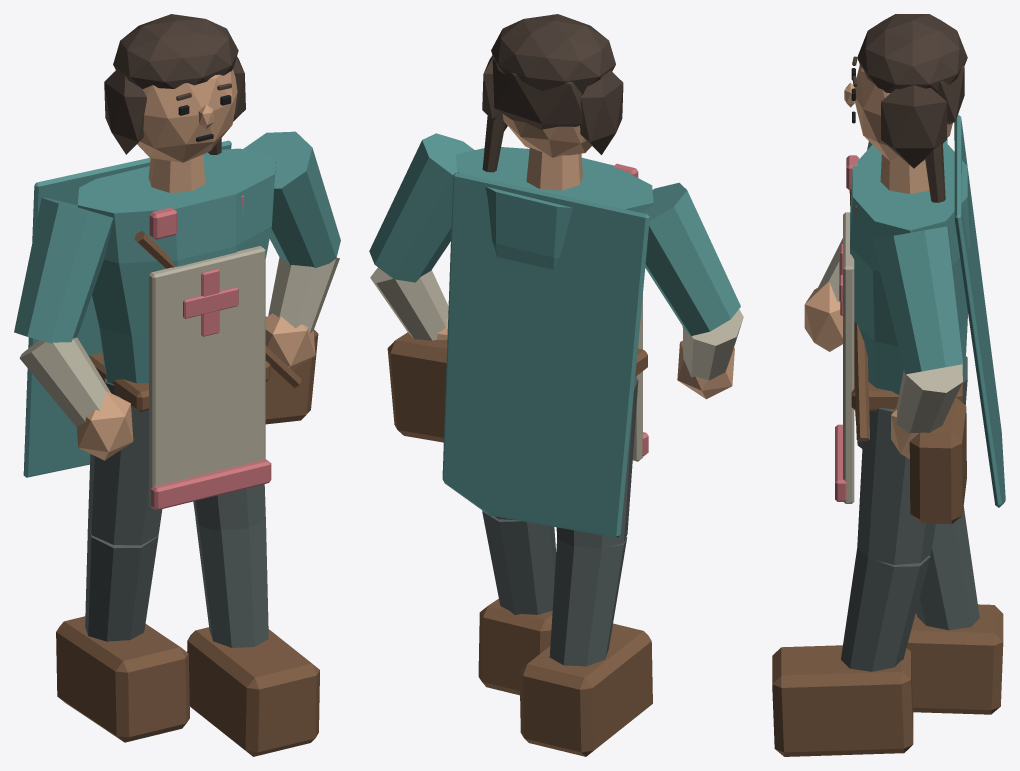
File: npc_healer_step_r_v01.glb
3 views of the same model, side by side, from view 1: azimuth 30°, elevation 25°; view 2: azimuth 150°, elevation 25°; view 3: azimuth 270°, elevation 25° (orthographic).
Parts seen in each view (by area): view 1: GEO_npc_healer_step_r_v01; view 2: GEO_npc_healer_step_r_v01; view 3: GEO_npc_healer_step_r_v01.
Boxes of the visible parts, x1,y1,x2,y2 form: GEO_npc_healer_step_r_v01: [14, 14, 340, 756]; GEO_npc_healer_step_r_v01: [369, 14, 743, 756]; GEO_npc_healer_step_r_v01: [772, 14, 1005, 756].
Bounding box in the file's own units: 1.06 × 2.07 × 0.6236.
